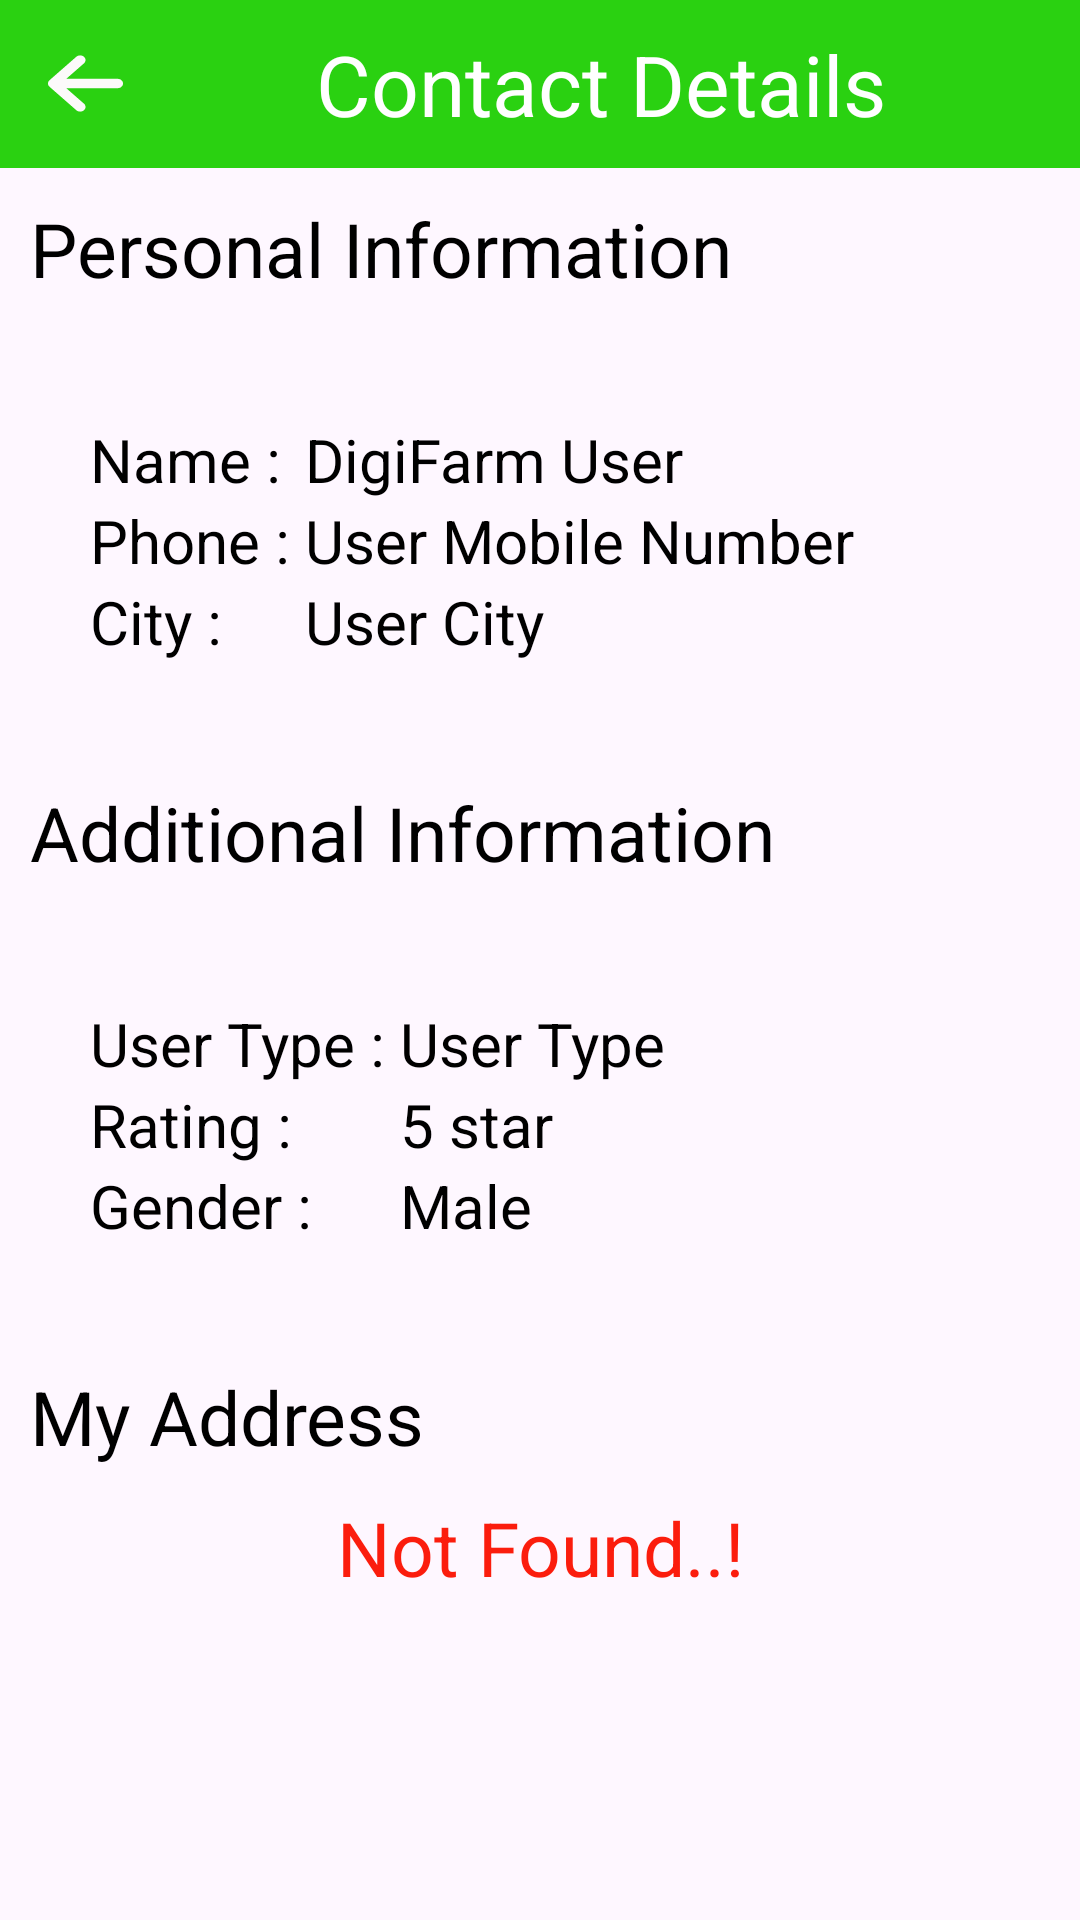

Screen size 1080px×1920px. Icon name, then its box in pixels as (x1, y1, x2, y2):
back arrow: (48, 55, 123, 112)
